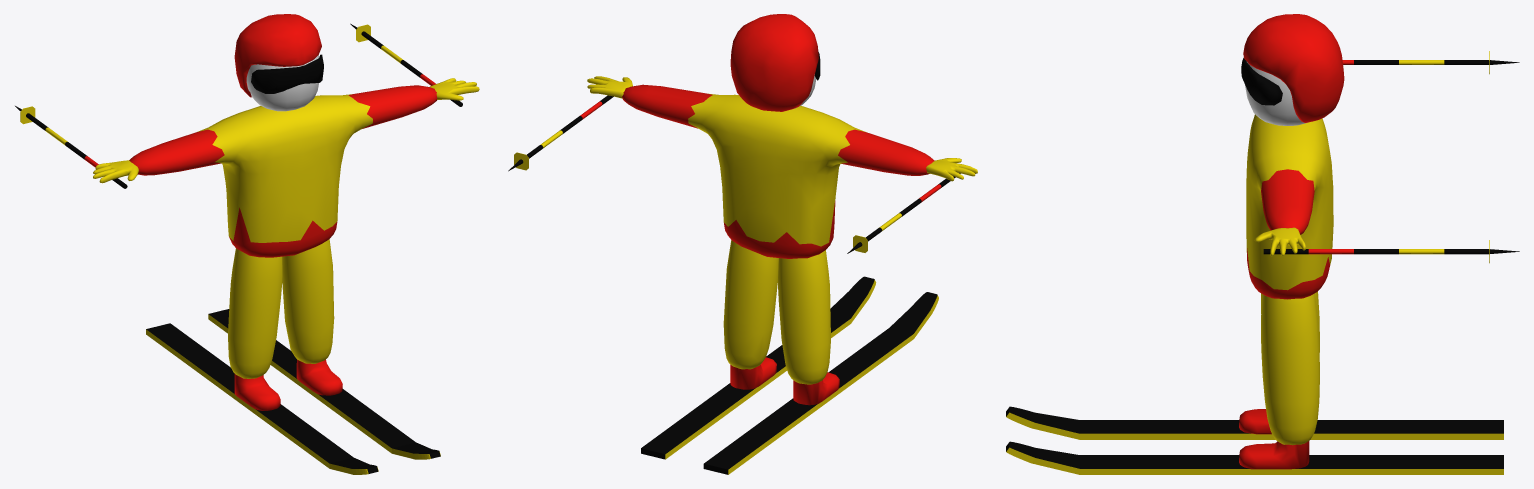
Rendered from skier.fbx.
3 views of the same model, side by side, from view 1: azimuth 30°, elevation 25°; view 2: azimuth 150°, elevation 25°; view 3: azimuth 270°, elevation 25° (orthographic). The views are drawn at different scales.
Visible parts, largest first — view 1: Cube.005, Cube.003, Cube.009, Cube.004, Cube.007; view 2: Cube.005, Cube.003, Cube.009, Cube.004; view 3: Cube.005, Cube.003, Cube.009, Cube.004, Cube.007.
Boxes of the visible parts, x1,y1,x2,y2 form: Cube.005: (93, 78, 479, 378); Cube.003: (15, 23, 462, 474); Cube.009: (234, 14, 323, 97); Cube.004: (234, 359, 342, 410); Cube.007: (246, 55, 319, 111); Cube.005: (587, 76, 977, 384); Cube.003: (508, 95, 960, 474); Cube.009: (730, 14, 820, 111); Cube.004: (730, 357, 839, 405); Cube.005: (1246, 114, 1333, 445); Cube.003: (1006, 51, 1519, 474); Cube.009: (1241, 14, 1344, 122); Cube.004: (1239, 409, 1309, 469); Cube.007: (1245, 61, 1307, 125).
Bounding box in the file's own units: 7.51 × 6.95 × 7.53.
